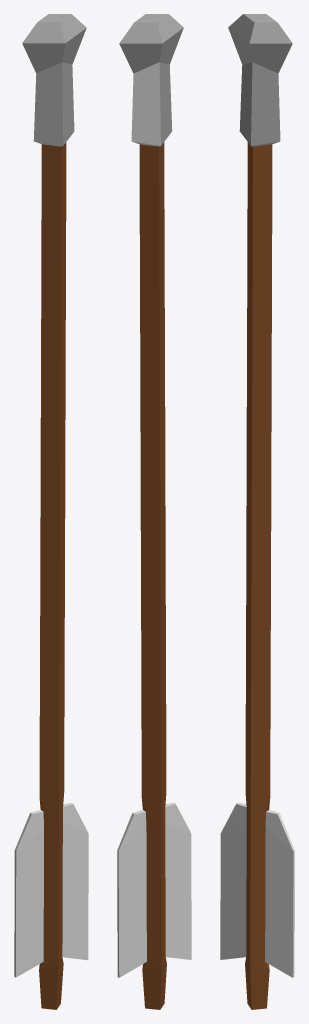
File: Low Poly Weapon Pack - by Kickin It Studios.fbx_Blunt_Arrow.glb
3 renders of one model, left to right at view 1: azimuth 30°, elevation 25°; view 2: azimuth 210°, elevation 25°; view 3: azimuth 330°, elevation 25°, orthographic.
Visible parts, largest first — view 1: Blunt Arrow; view 2: Blunt Arrow; view 3: Blunt Arrow.
Part boxes in pixels (x1,y1,x2,y2): Blunt Arrow: (14,14,88,1009); Blunt Arrow: (117,14,191,1009); Blunt Arrow: (220,14,294,1009).
Size of the model in its own units: 0.0619 by 0.8014 by 0.032.
